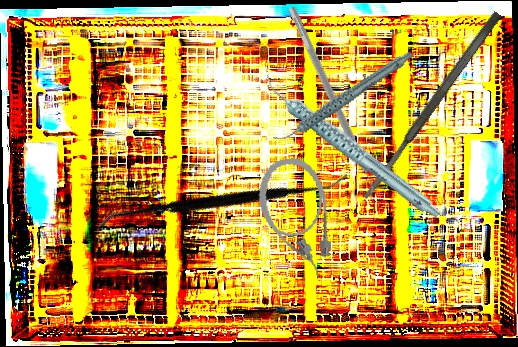Cannula: (252, 153, 341, 285)
Handpiece: (262, 43, 443, 248), (260, 48, 426, 145)
Spatula Surgical: (94, 80, 351, 326), (359, 9, 504, 202), (280, 6, 383, 201)
